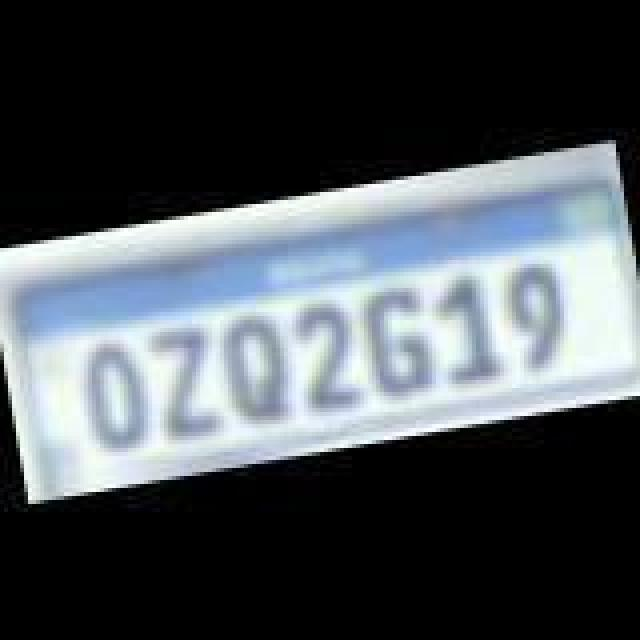1: (422, 264, 506, 392)
2: (282, 288, 374, 416)
9: (494, 252, 578, 372)
G: (348, 276, 436, 404)
O: (72, 334, 152, 450)
Q: (216, 306, 296, 430)
Z: (140, 320, 228, 448)
